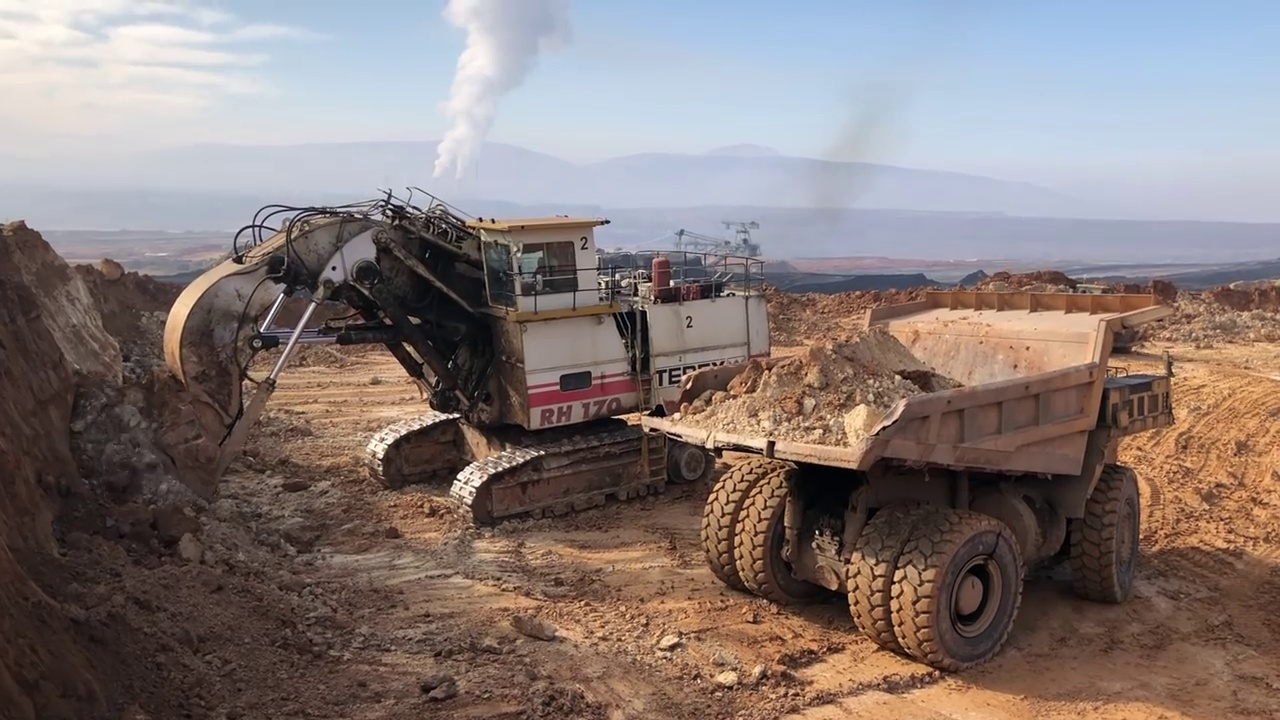dumper: (614, 293, 1179, 670)
excavator: (160, 203, 774, 537)
